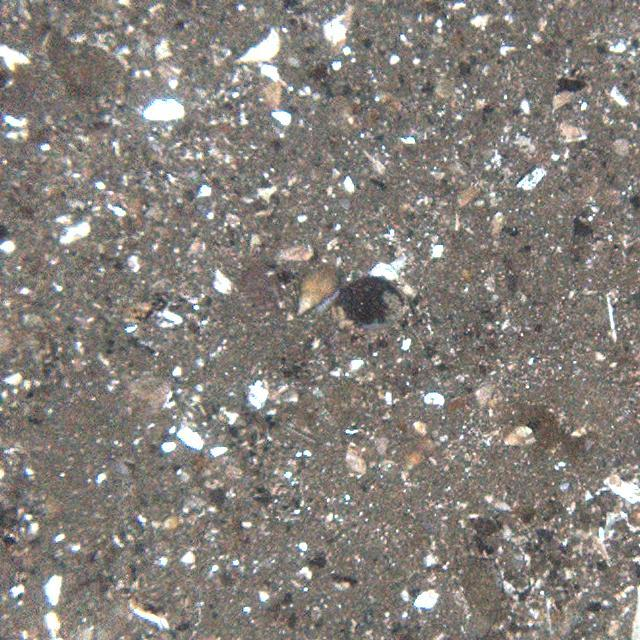whelk: (290, 258, 342, 312)
